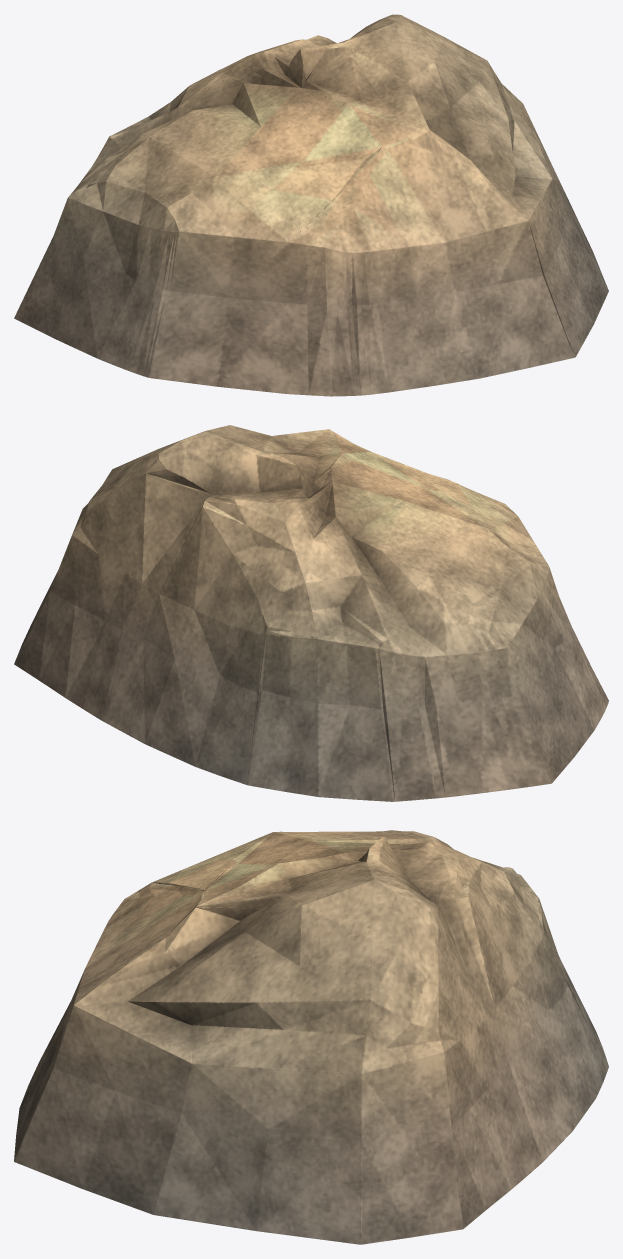
Rendered from shore-rock-2.glb.
3 views of the same model, one above another, from view 1: azimuth 30°, elevation 25°; view 2: azimuth 150°, elevation 25°; view 3: azimuth 270°, elevation 25° (orthographic). The views are drawn at different scales.
Visible parts, largest first — view 1: Shore boulder 2; view 2: Shore boulder 2; view 3: Shore boulder 2.
Part boxes in pixels (x1,y1,x2,y2): Shore boulder 2: (14,14,608,396); Shore boulder 2: (14,425,608,801); Shore boulder 2: (14,830,608,1244).
Bounding box in the file's own units: 2.79 × 1.16 × 2.33.
Materials: 1 (1 with a texture image).
